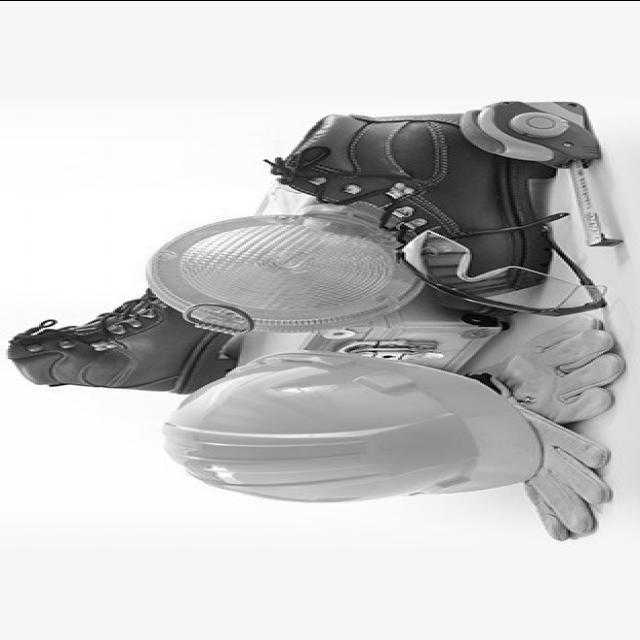safety_helmet: (166, 349, 537, 504)
